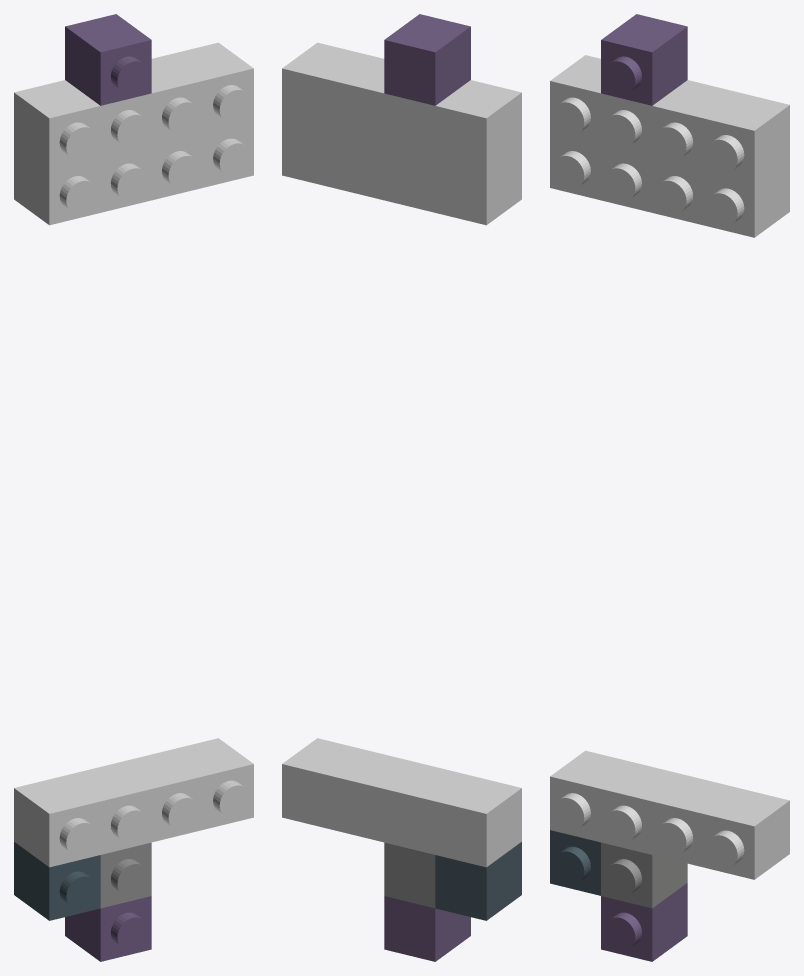
Rendered from current.glb.
3 views of the same model, side by side, from view 1: azimuth 30°, elevation 25°; view 2: azimuth 150°, elevation 25°; view 3: azimuth 330°, elevation 25° (orthographic).
Visible parts, largest first — view 1: world; view 2: world; view 3: world.
Part boxes in pixels (box(x1,y1,x2,y2)): world: box(14, 14, 253, 961); world: box(282, 14, 521, 961); world: box(550, 14, 789, 961).
Size of the model in its own units: 32 by 136 by 11.4.
